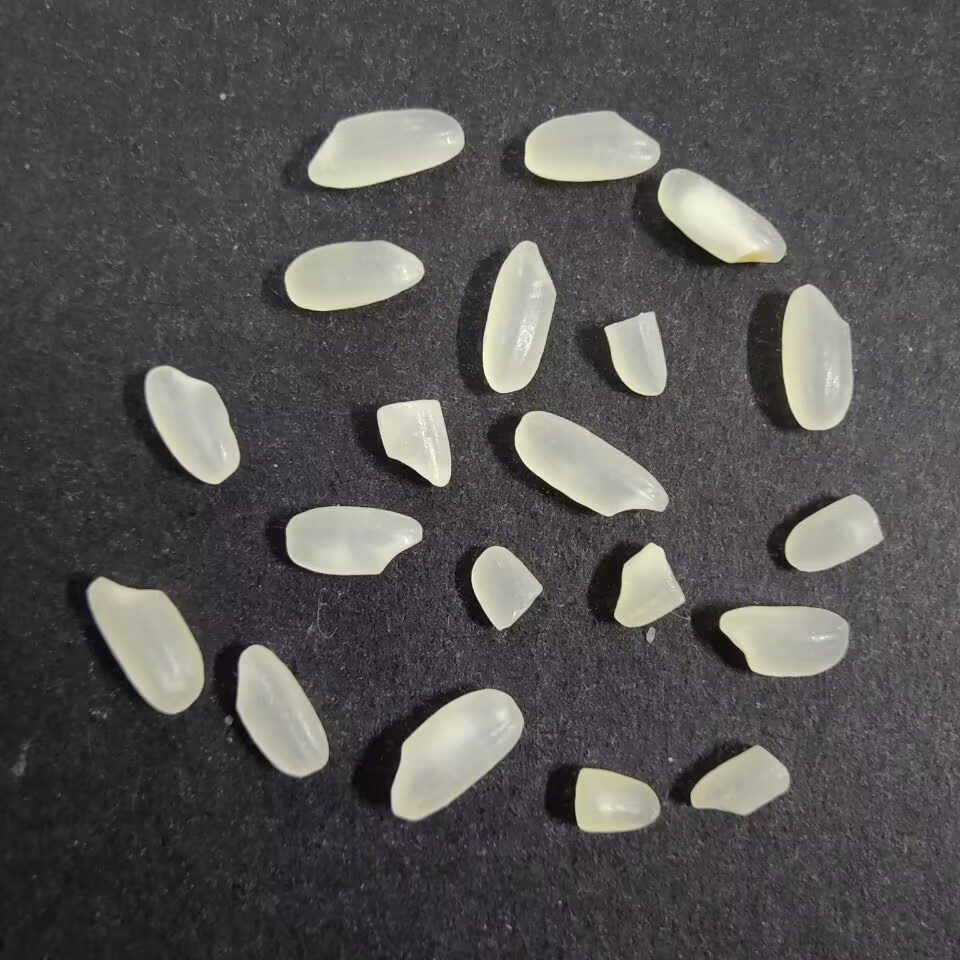broken: (685, 738, 794, 818), (782, 491, 886, 574), (373, 396, 455, 493), (610, 535, 689, 633), (467, 541, 547, 635), (569, 760, 662, 837), (600, 311, 670, 397)
rice: (387, 685, 526, 825), (512, 406, 673, 520), (80, 574, 207, 716), (231, 641, 335, 782), (301, 104, 467, 190), (653, 166, 790, 266), (143, 364, 244, 489), (477, 238, 556, 397), (777, 281, 855, 432), (281, 503, 427, 582), (517, 106, 665, 183), (712, 601, 853, 680), (283, 239, 428, 315)
